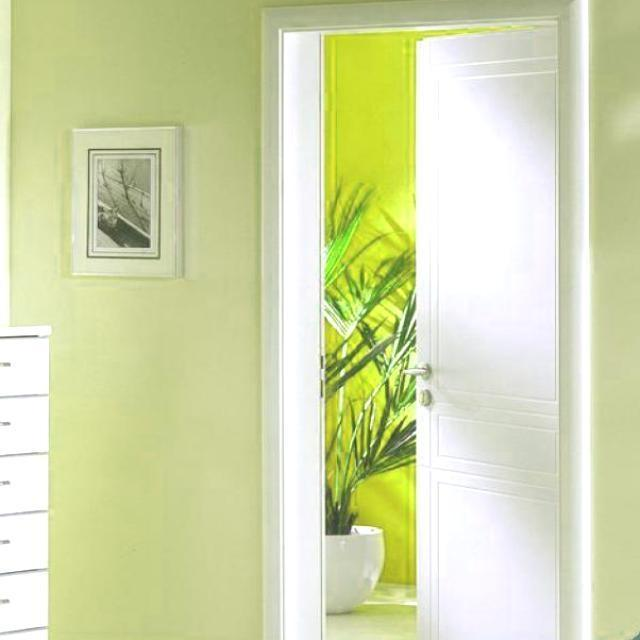door: (411, 21, 561, 639)
